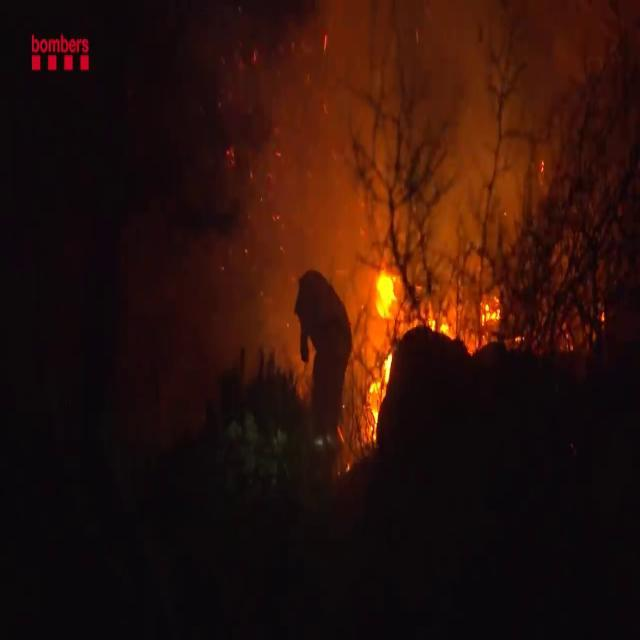Fire: (364, 265, 401, 443)
Smoke: (221, 1, 565, 280)
